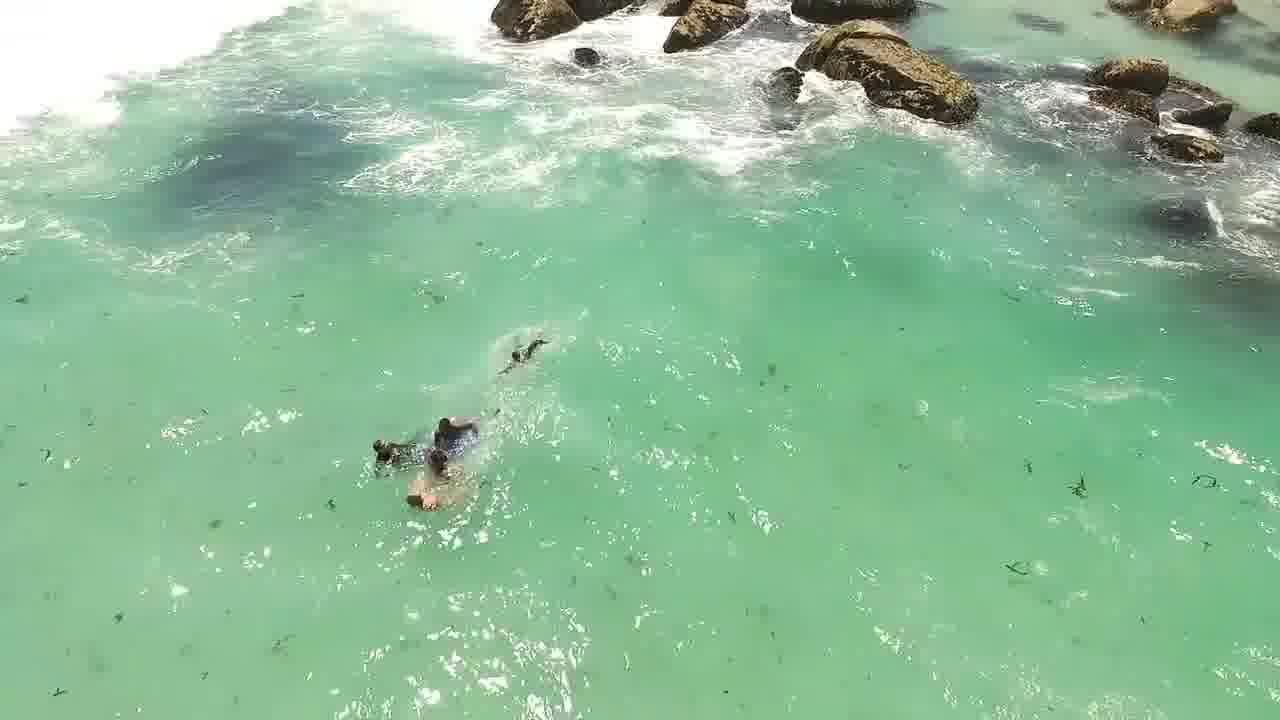swimmer: (495, 328, 546, 372), (367, 423, 397, 462), (399, 485, 435, 515), (423, 403, 460, 431), (426, 444, 447, 463)
